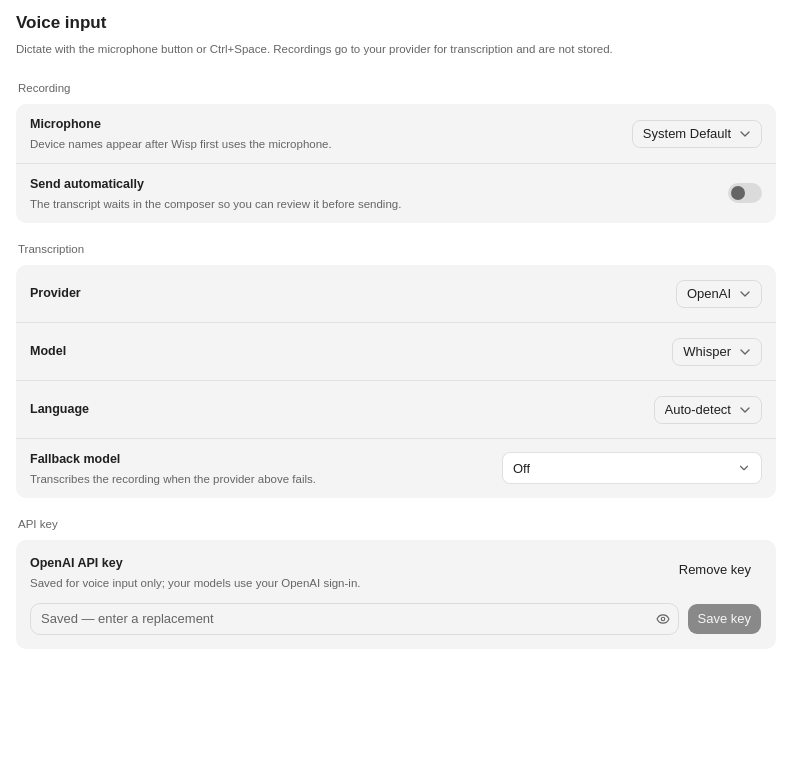
Test: VoiceSettingsSection › says a key kept for voice input alone leaves the sign-in in place
expect the text "Saved for voice input only; your models use your OpenAI sign-in" is shown: met, box [30,577,360,589]
Click the button "Remove key".
click(715, 570)  # box [668,554,762,586]
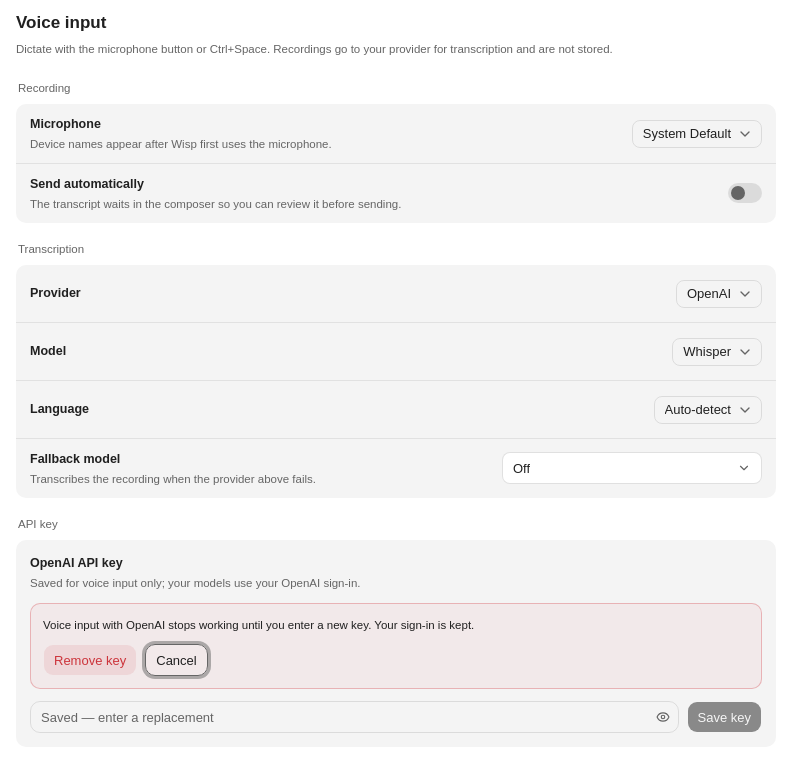
Click the button "Remove key".
click(90, 660)  # box [43,644,137,676]
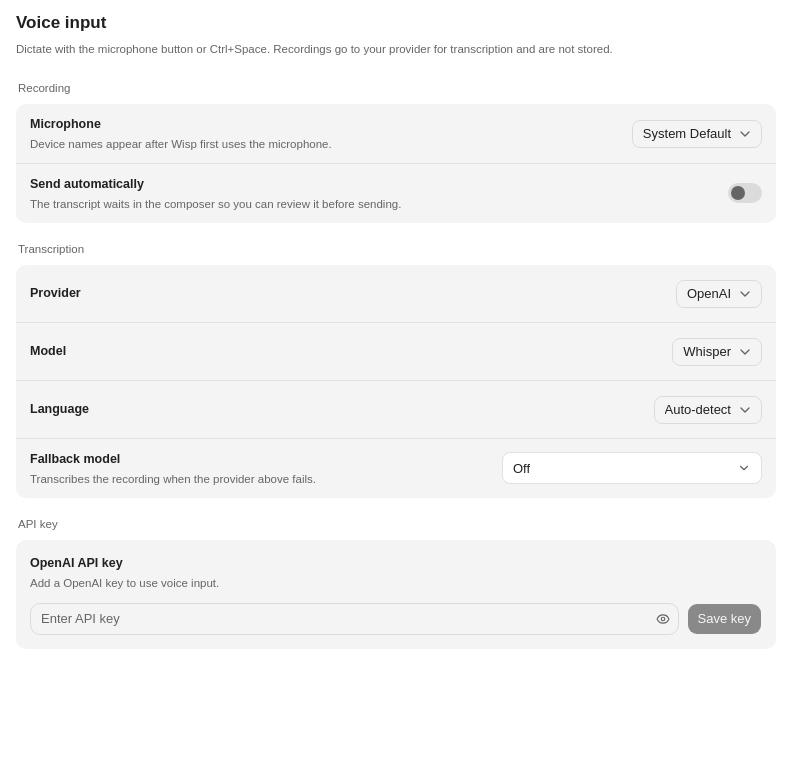
expect the text "Add a OpenAI key to use voice input." is shown: met, box [30,577,219,589]
